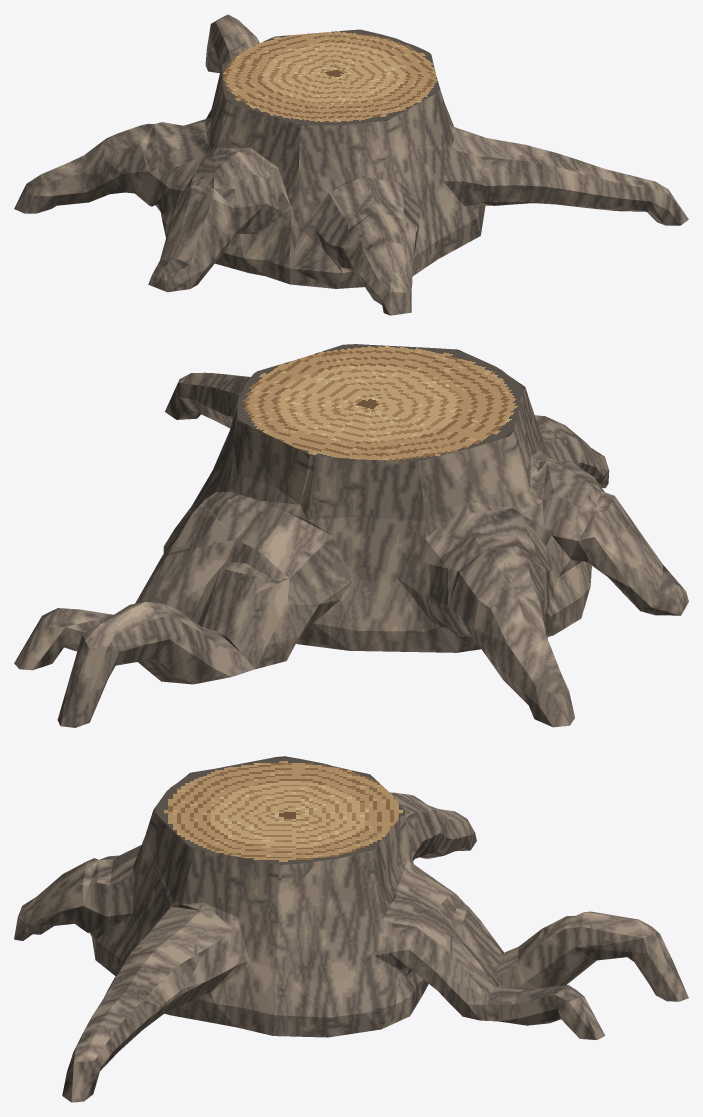
The model's file is environment_elm4_stump_v76.fbx.
3 renders of one model, top to bottom at view 1: azimuth 30°, elevation 25°; view 2: azimuth 150°, elevation 25°; view 3: azimuth 270°, elevation 25°, orthographic. The views are drawn at different scales.
Visible parts, largest first — view 1: environment_elm4_stump_v76; view 2: environment_elm4_stump_v76; view 3: environment_elm4_stump_v76.
Part boxes in pixels (x1,y1,x2,y2): environment_elm4_stump_v76: (14,14,688,315); environment_elm4_stump_v76: (14,344,688,727); environment_elm4_stump_v76: (14,756,688,1102).
Size of the model in its own units: 438 by 115 by 469.
Materials: 2 (2 with a texture image).
